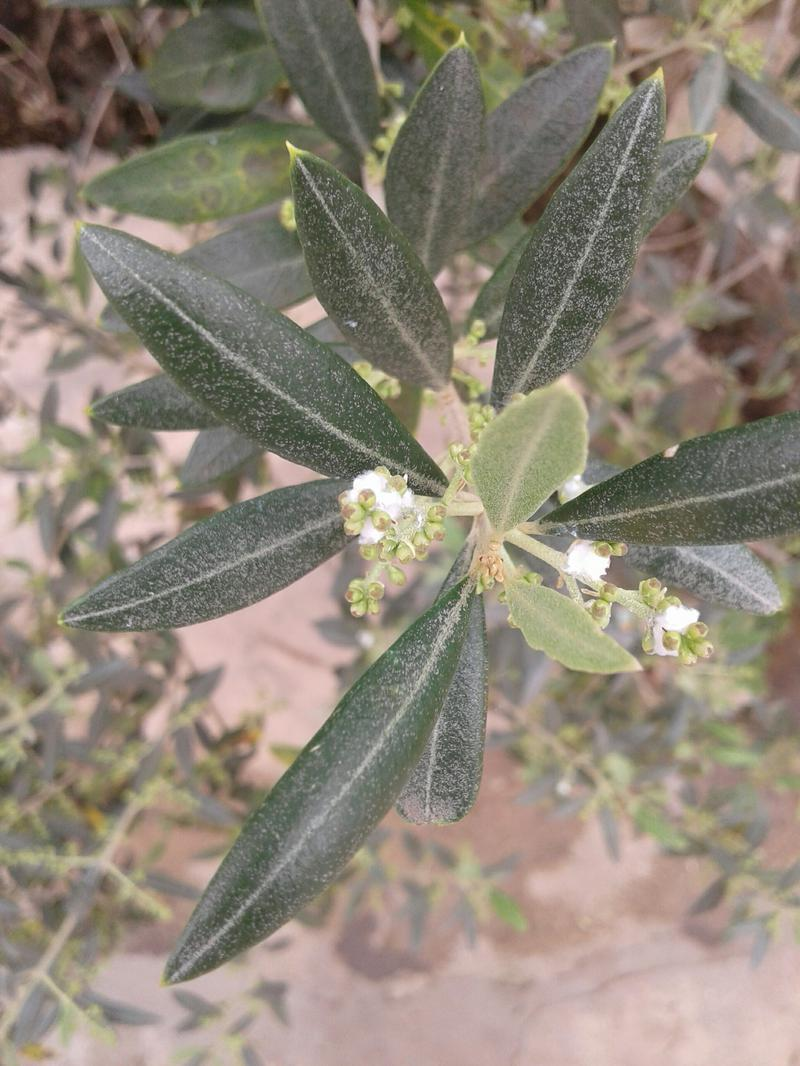Psyllid: (324, 464, 457, 600), (556, 540, 641, 594), (650, 598, 699, 662)
